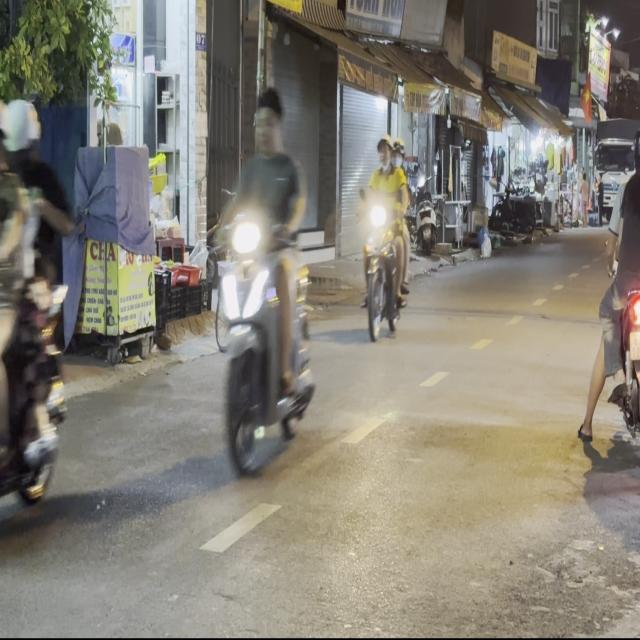helmet: (0, 96, 42, 173), (375, 133, 392, 166), (391, 135, 404, 165)
licenseplate: (209, 88, 317, 478), (0, 91, 76, 554), (580, 120, 640, 455), (357, 131, 412, 340)
motorcyclist: (251, 86, 284, 155), (632, 126, 640, 171)
nohelmet: (629, 330, 640, 359)
